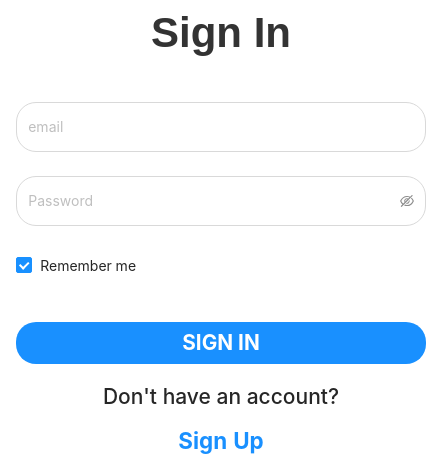
shows validation error when submitting empty form
Click the button "SIGN IN": {"x": 221, "y": 343} [16, 322, 426, 364]
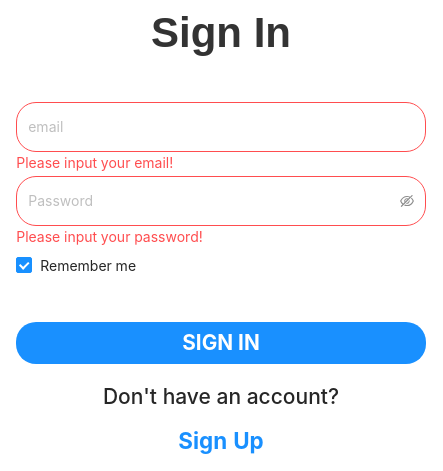
Expected: the text "Please input your email!" is shown, [16, 154, 173, 171]
